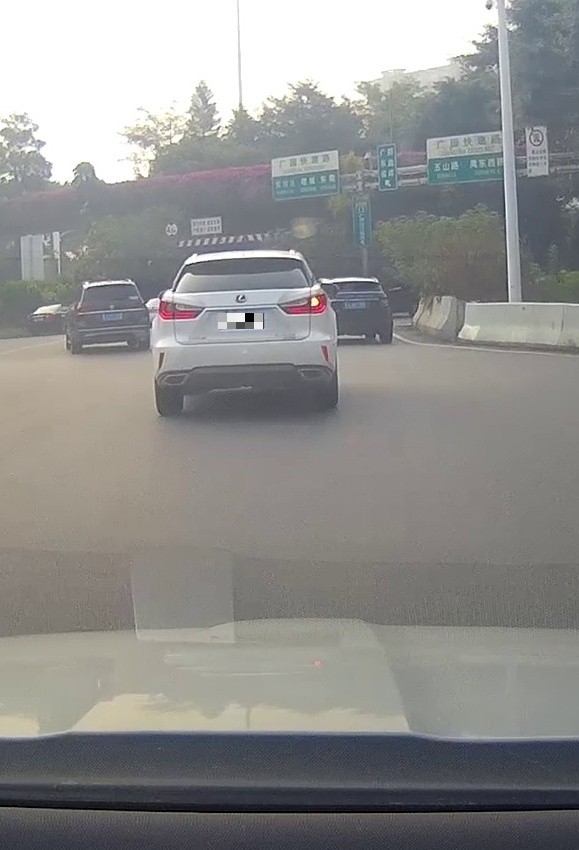L_light: (159, 300, 205, 320), (77, 309, 91, 313)
R_light: (278, 293, 327, 315), (134, 306, 146, 310)
T_light: (231, 260, 256, 265), (106, 286, 118, 288)
day-no: (72, 282, 150, 353)
day-right: (152, 252, 337, 415)
plate_1: (218, 313, 264, 329)
